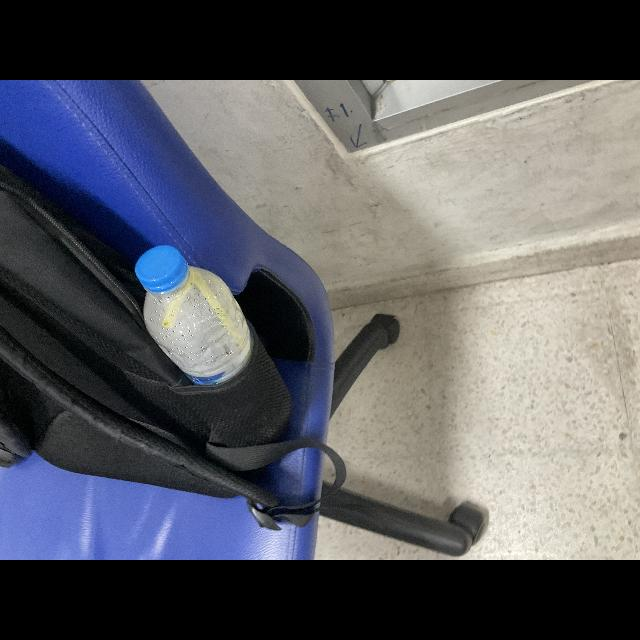plastic_bottle: (132, 240, 260, 392)
